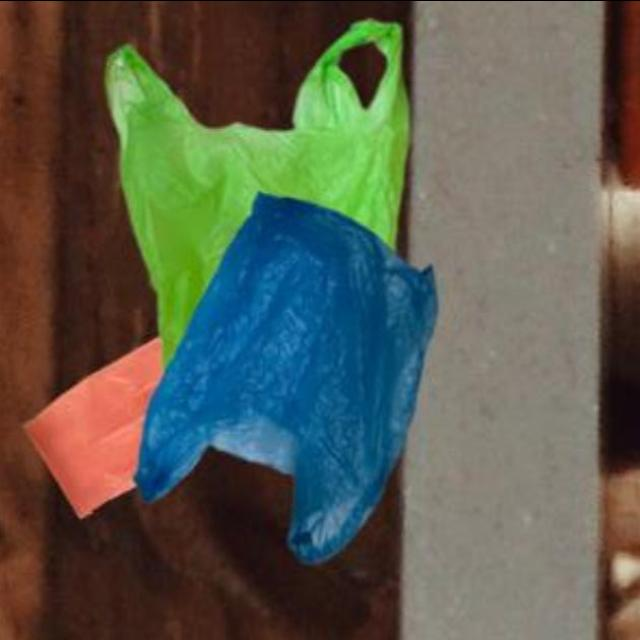plastik: (137, 193, 438, 564), (106, 19, 410, 364), (24, 338, 163, 517)
